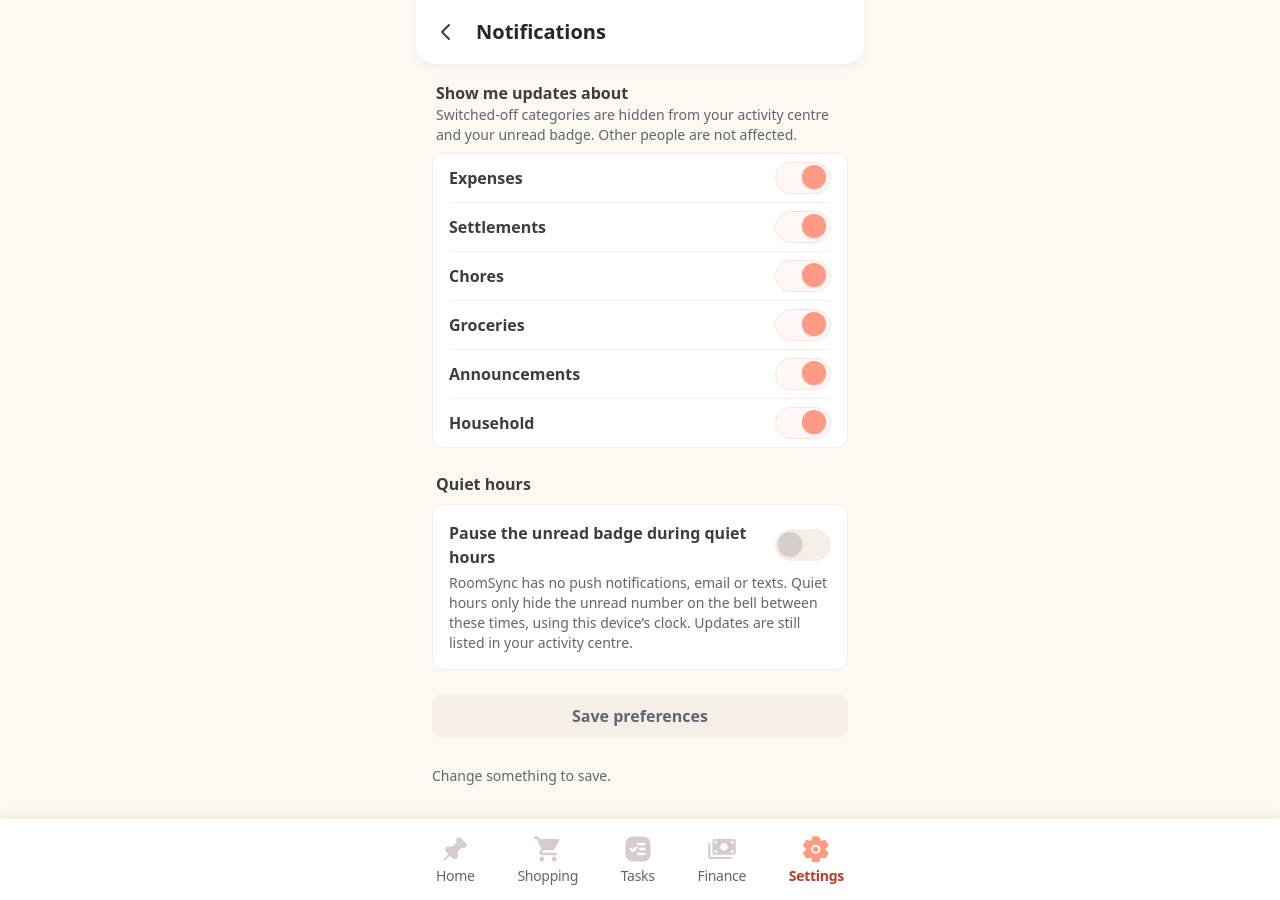
notification preferences › a failed save keeps the switches as set
What coordinates should you click on to do the following:
click the switch named "Expenses" in the row of "Expenses"
I would click on:
 (803, 178)
Its box is [775,162,831,194].
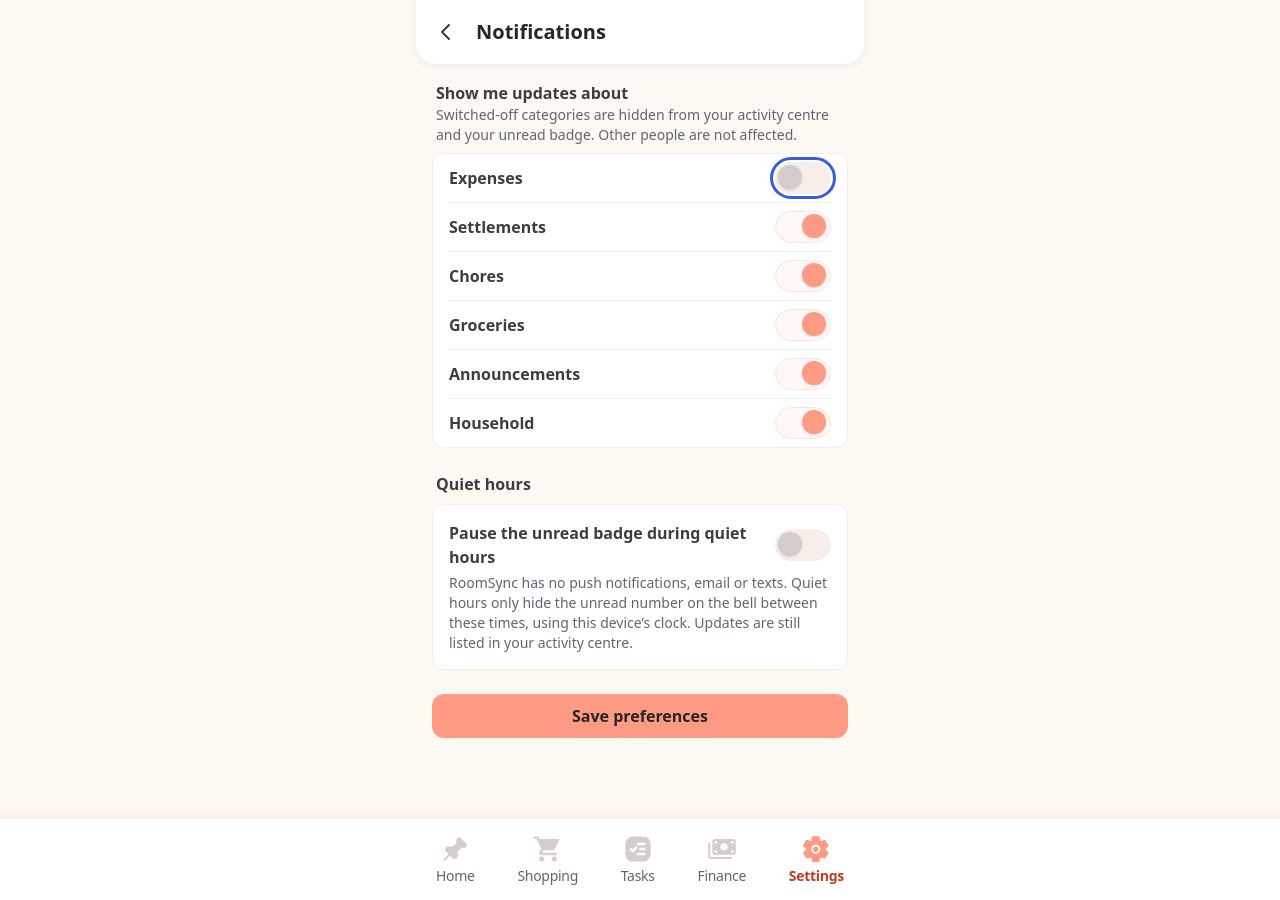
What coordinates should you click on to do the following:
click the button "Save preferences"
I would click on:
 (640, 716)
Its box is [432,694,848,738].
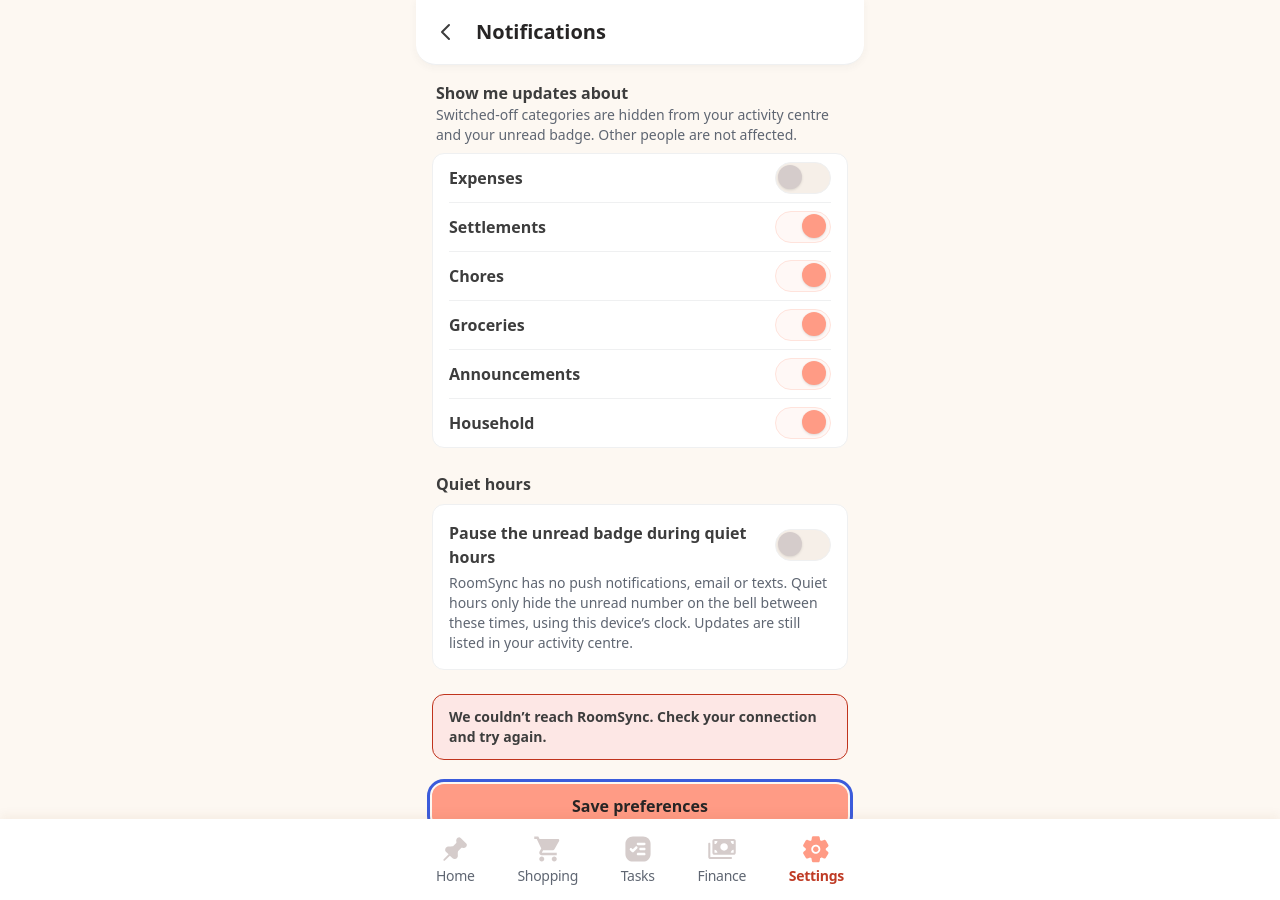
Check: the text "We couldn’t reach RoomSync. Check your connection and try again." is shown, box [432,694,848,760]
